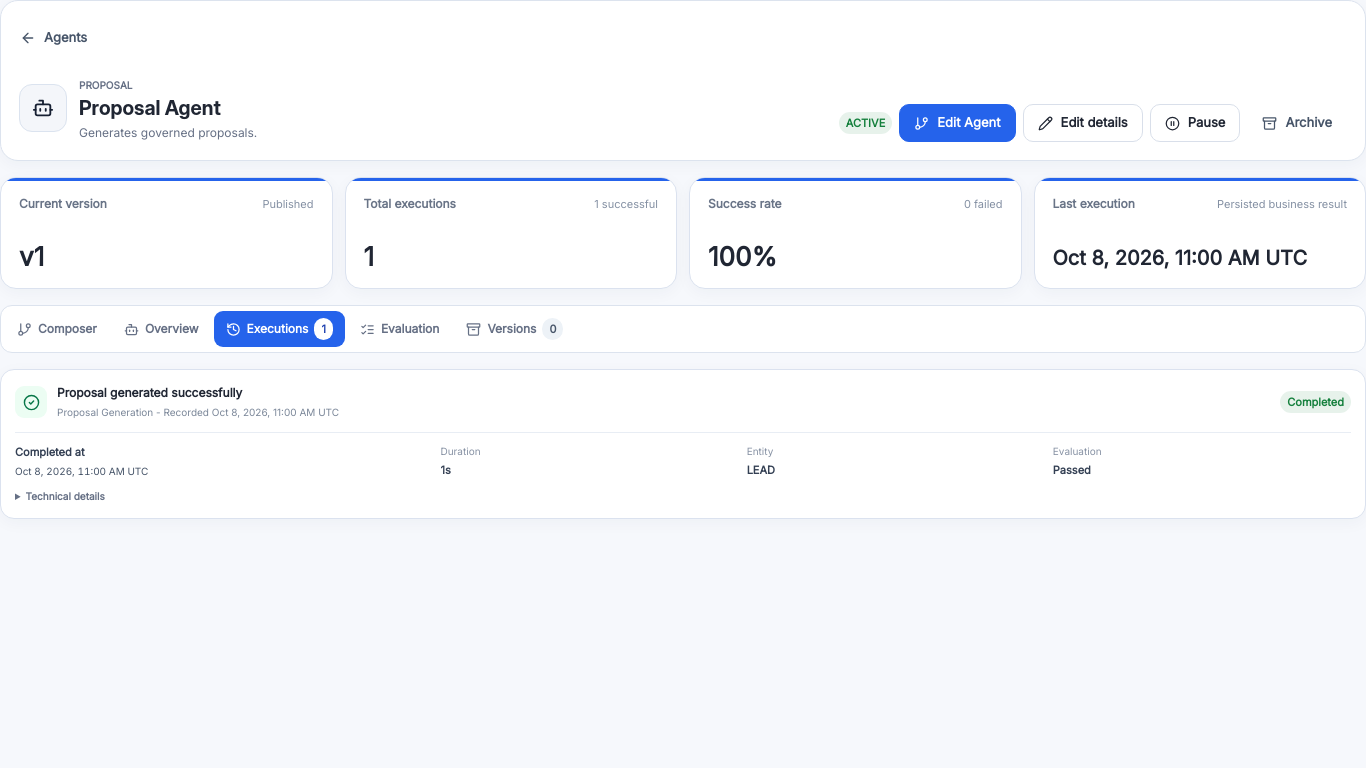
Test: AgentsWorkspace › opens the shared Agent Composer with the complete node palette
Click the button "Edit Agent" at x=957, y=123, box top-left (899, 104), bottom-right (1016, 142)
(page scrolled)
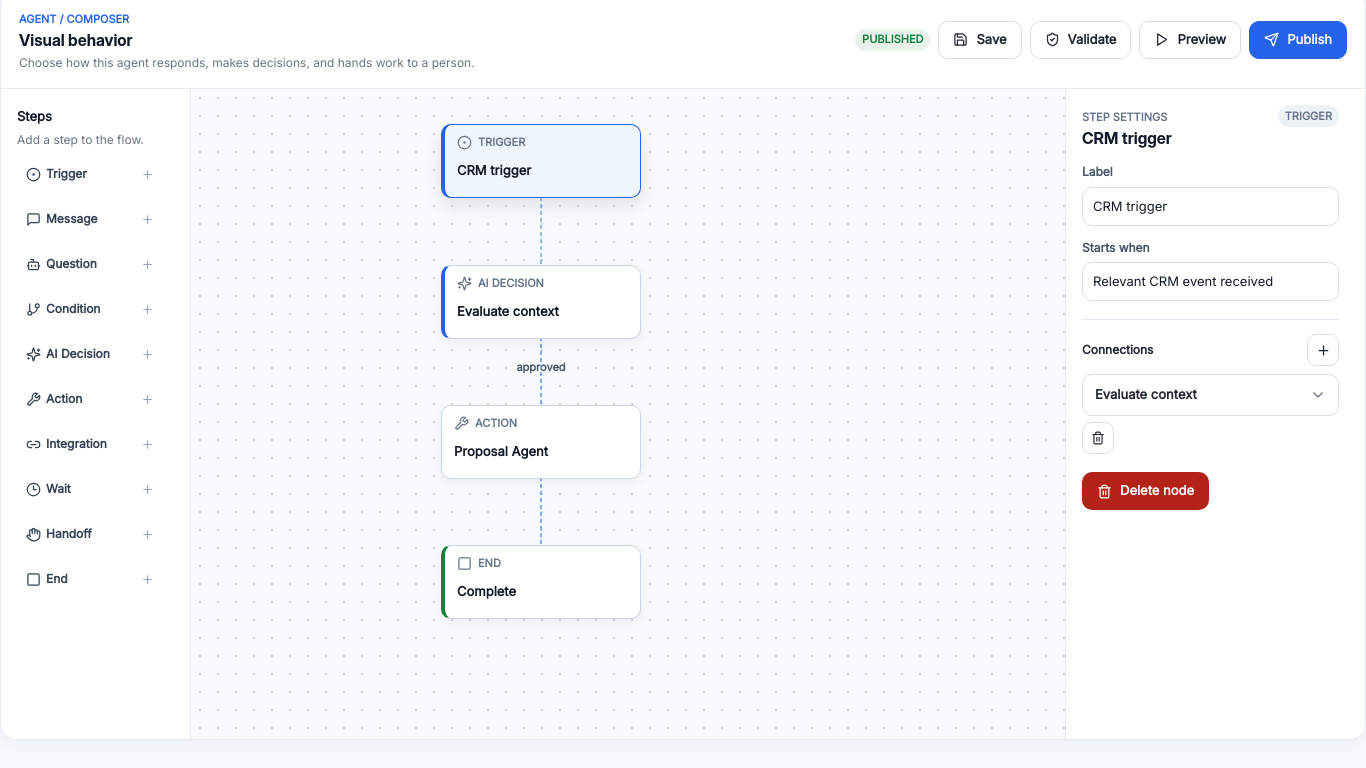
expect the heading "Visual behavior" is shown: met, box top-left (19, 30), bottom-right (133, 50)
expect the button "Trigger" is shown: met, box top-left (17, 156), bottom-right (164, 194)
expect the button "Message" is shown: met, box top-left (17, 200), bottom-right (164, 238)
Click the button "Action Proposal Agent" at x=541, y=442, box top-left (441, 405), bottom-right (641, 479)
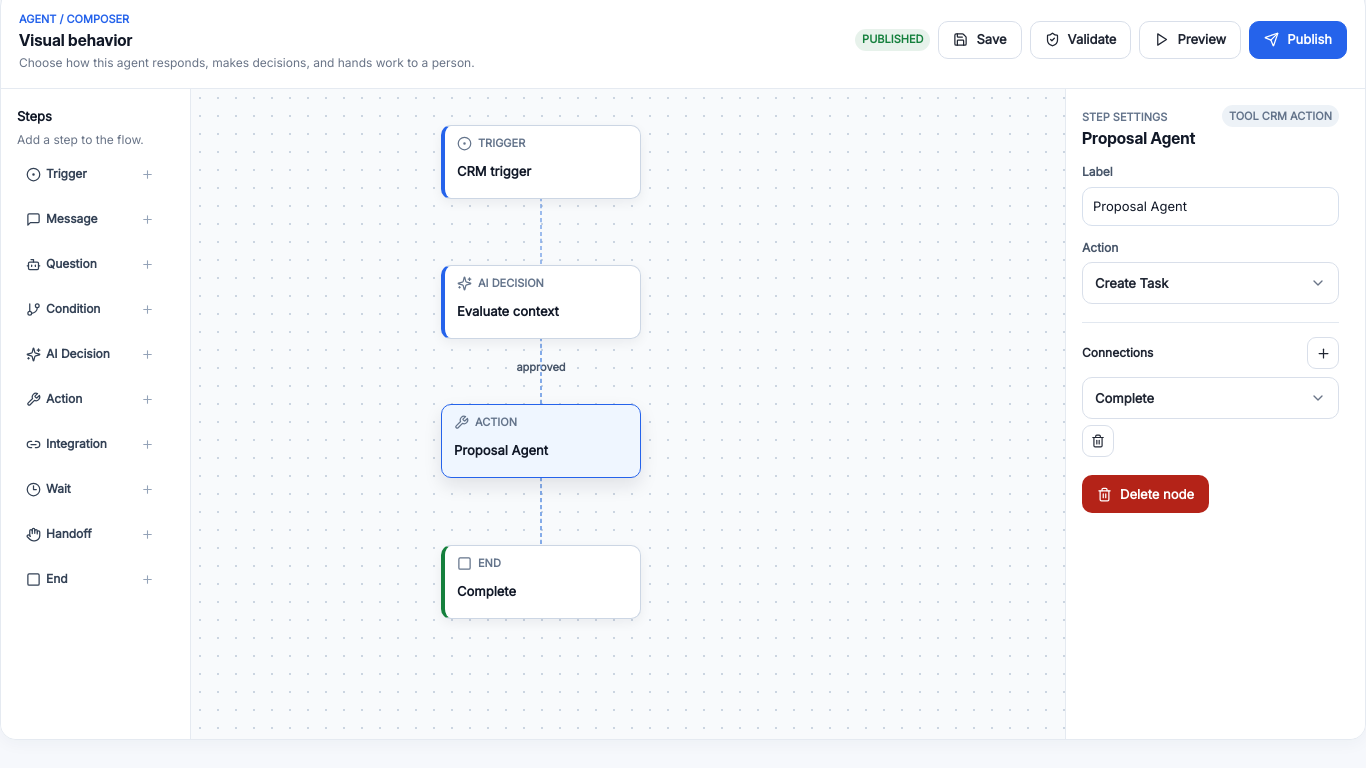
expect the label labelled "Action" is shown: met, box top-left (1082, 240), bottom-right (1339, 304)
